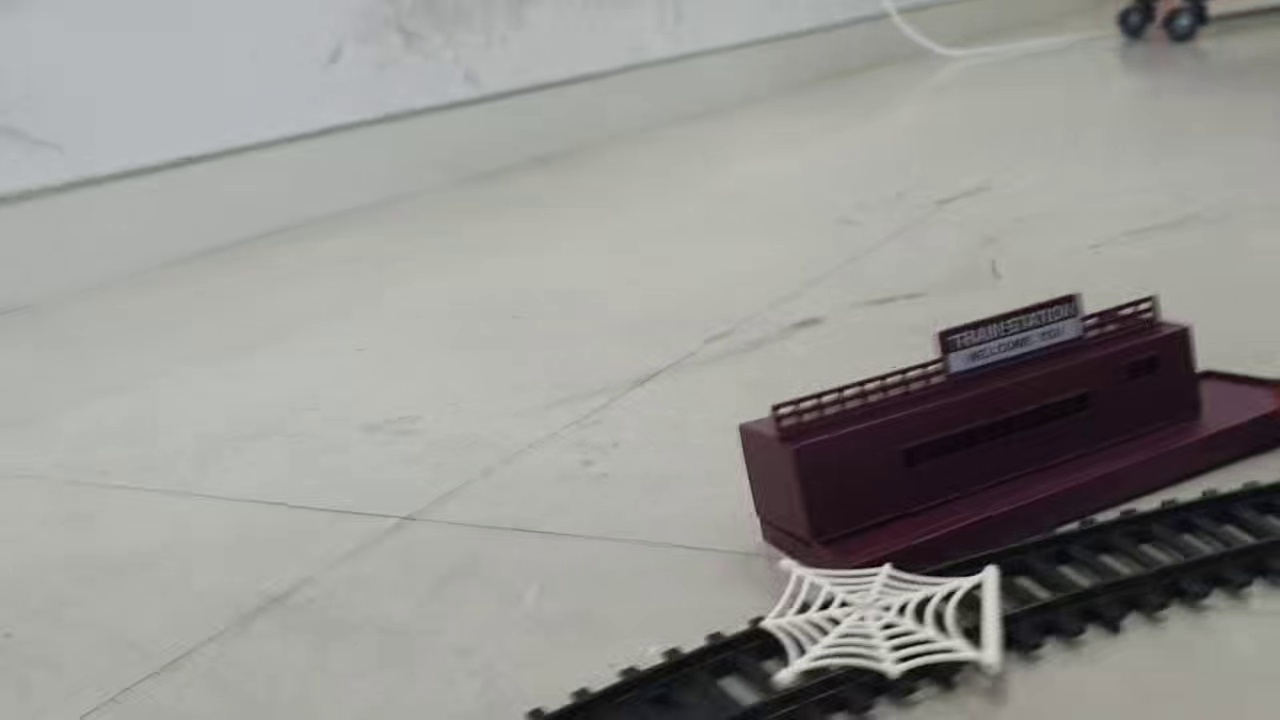web: (757, 554, 1007, 693)
